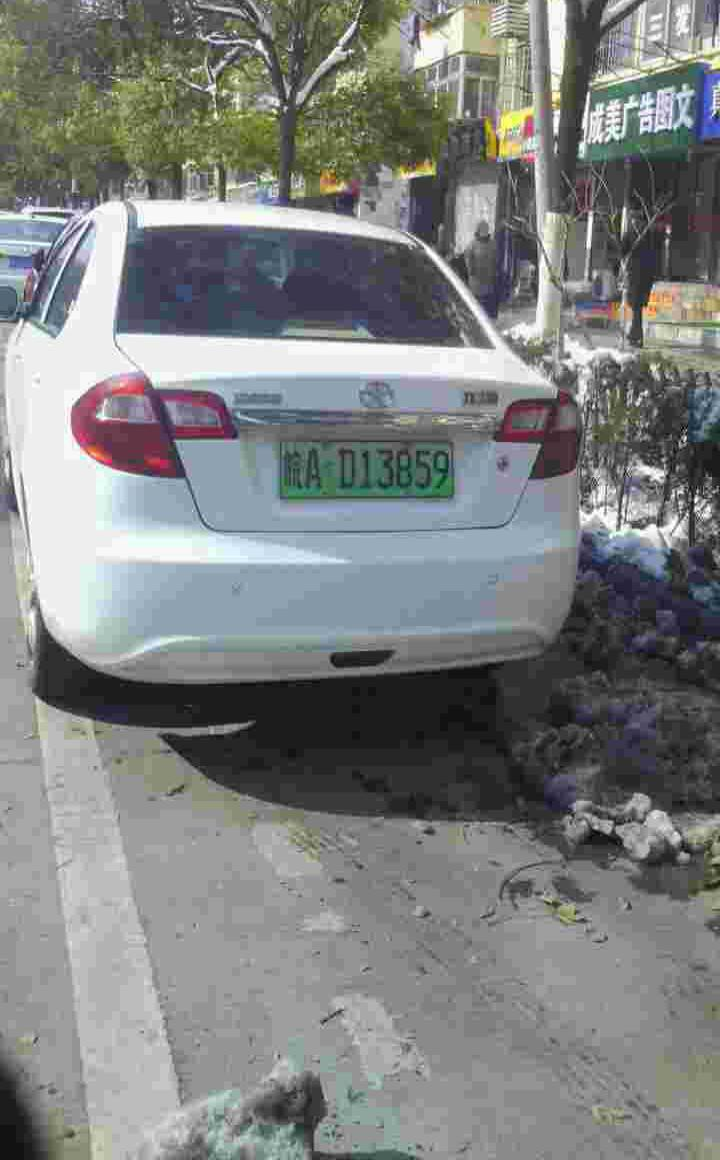car: (271, 434, 474, 508)
